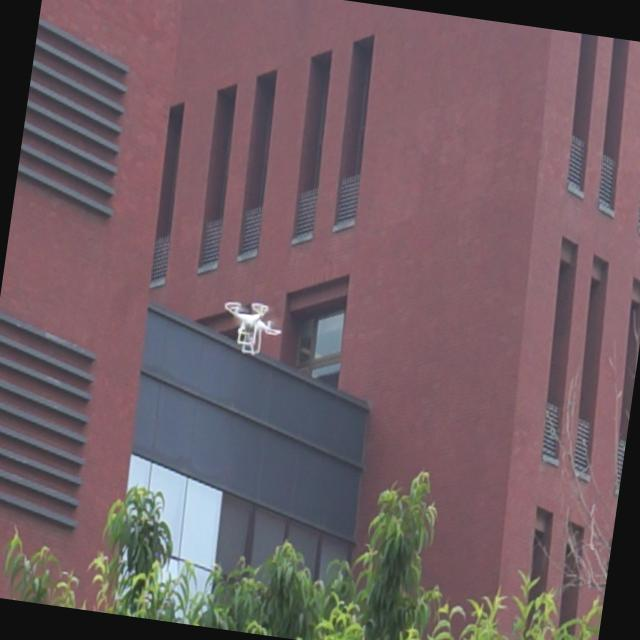drone: (215, 294, 288, 362)
